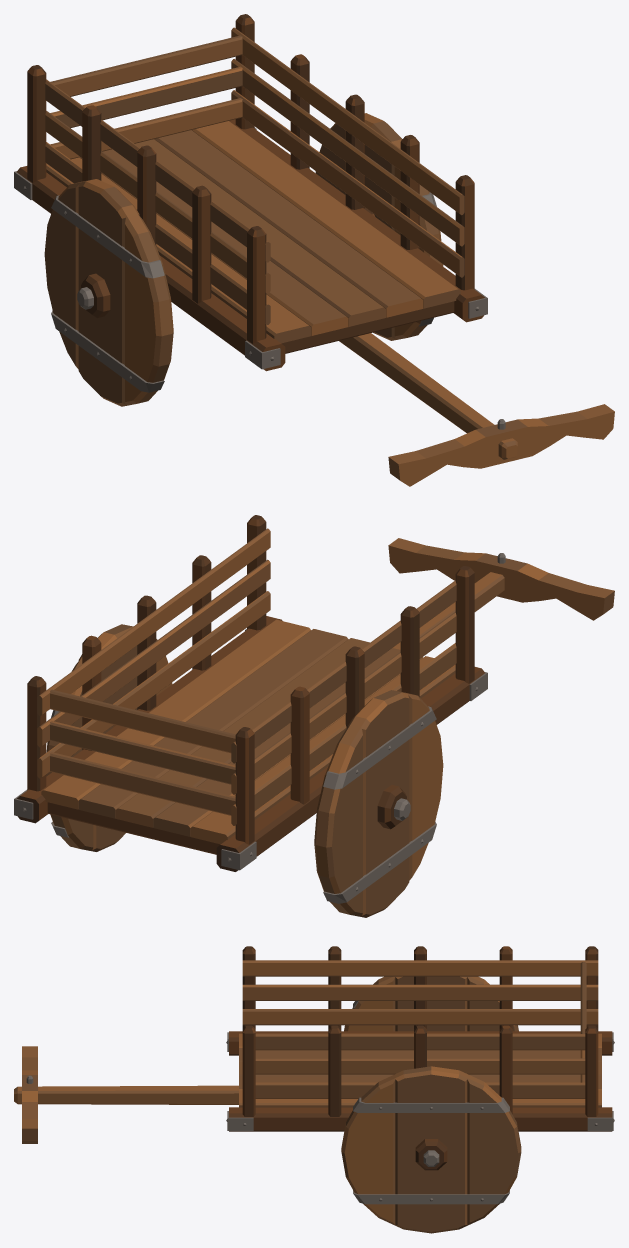
The model's file is ox-cart-c12bca.glb.
3 views of the same model, one above another, from view 1: azimuth 30°, elevation 25°; view 2: azimuth 150°, elevation 25°; view 3: azimuth 270°, elevation 25° (orthographic). The views are drawn at different scales.
Visible parts, largest first — view 1: body, wheel-l-mesh, wheel-r-mesh; view 2: body, wheel-l-mesh, wheel-r-mesh; view 3: body, wheel-r-mesh, wheel-l-mesh.
Part boxes in pixels (<box>): body: <box>14,14,614,486</box>; wheel-l-mesh: <box>44,179,173,406</box>; wheel-r-mesh: <box>315,113,443,340</box>; body: <box>14,515,614,871</box>; wheel-l-mesh: <box>314,690,443,917</box>; wheel-r-mesh: <box>46,624,172,851</box>; body: <box>14,946,614,1143</box>; wheel-r-mesh: <box>341,1066,521,1233</box>; wheel-l-mesh: <box>344,976,518,1031</box>.
Bounding box in the file's own units: 2.02 × 1.47 × 4.14.
